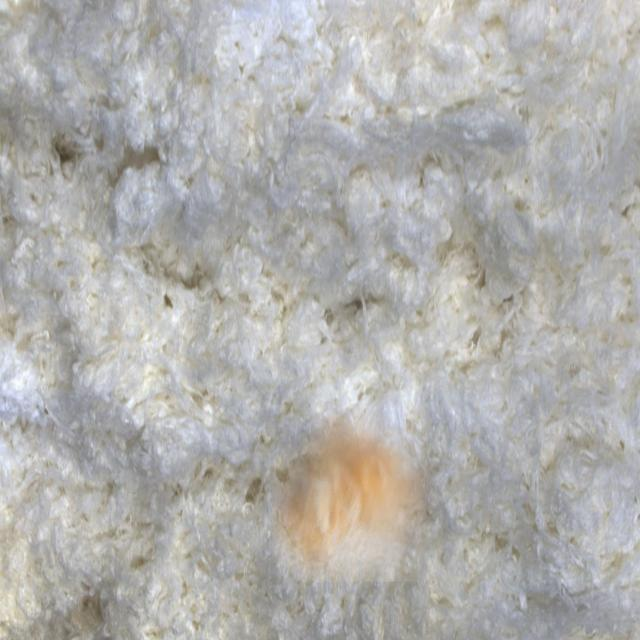dust: (271, 390, 443, 582)
